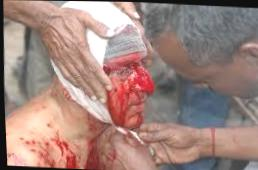Fire: (16, 115, 116, 170), (103, 51, 154, 128)
